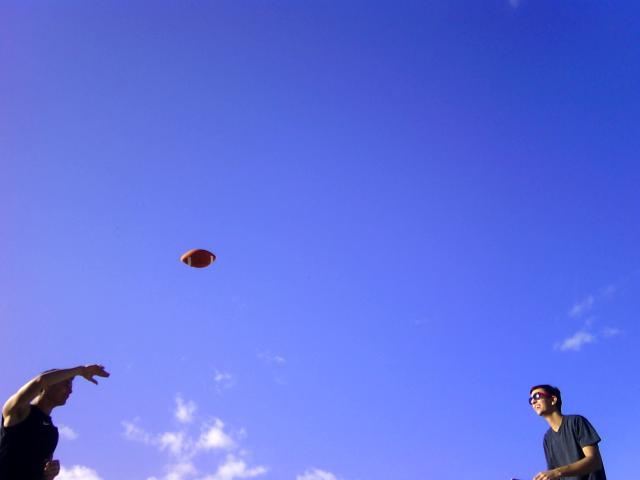football: (180, 244, 217, 272)
